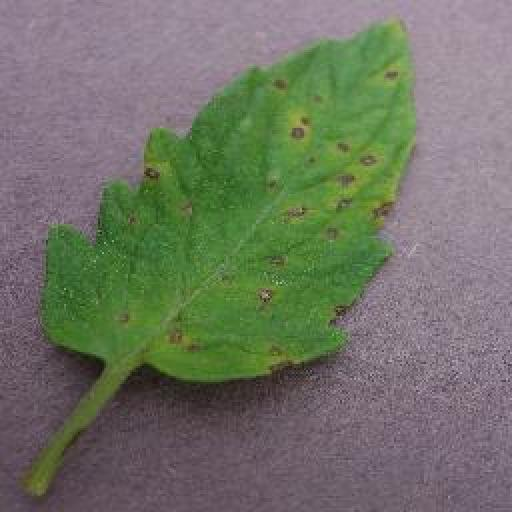Septoria: (47, 14, 422, 386)
